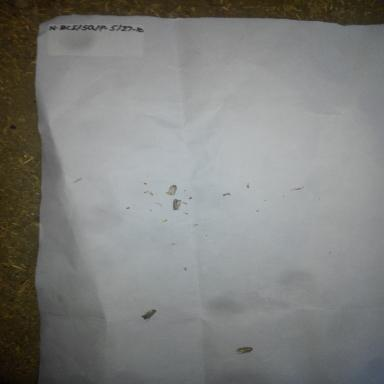pbw: (140, 308, 158, 323), (234, 346, 255, 356), (170, 198, 183, 212), (165, 184, 179, 196)
